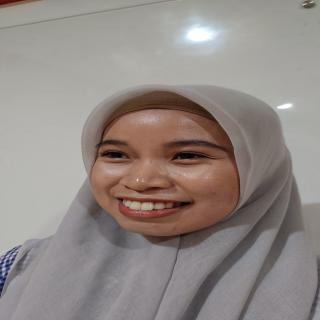Senang: (87, 100, 256, 246)
